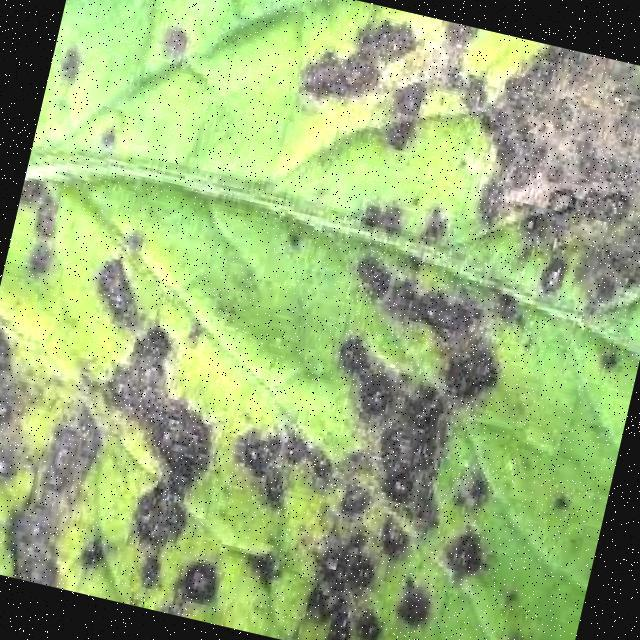Septoria_Blight_on_lettuce: (187, 196, 544, 640)
